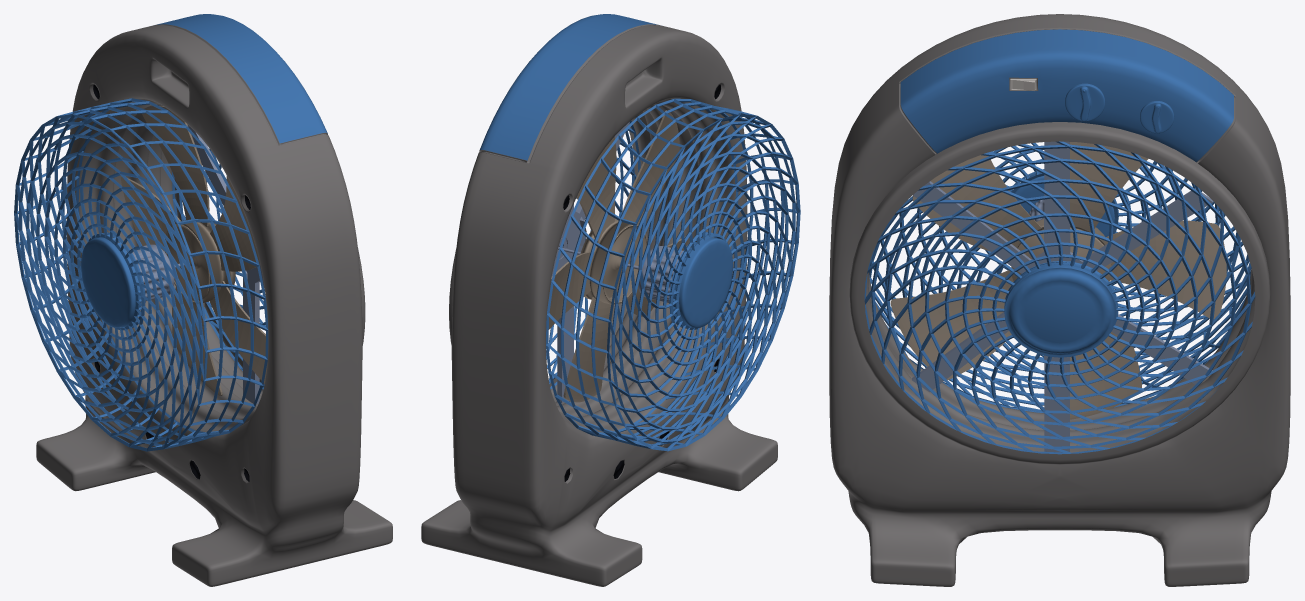
Rendered from ventilador1.glb.
The picture shows the model from 3 angles, left to right: view 1: azimuth 30°, elevation 25°; view 2: azimuth 150°, elevation 25°; view 3: azimuth 270°, elevation 25°; orthographic projection. The views are drawn at different scales.
Visible parts, largest first — view 1: carcaza _Carcaza _0, maya trasera, aspas, carcaza _celeste _0, Circle, guia de las aspas, esqueleto, bordeador, Maya frontal, motor; view 2: carcaza _Carcaza _0, maya trasera, aspas, carcaza _celeste _0, Circle, guia de las aspas, esqueleto, bordeador, Maya frontal, motor; view 3: carcaza _Carcaza _0, Maya frontal, carcaza _celeste _0, aspas, bordeador, esqueleto, maya trasera, tapa frontal, interruptor de velocidad, guia de las aspas, interruptor de tiempo, Circle.
Part boxes in pixels (x1,y1,x2,y2): carcaza _Carcaza _0: (36,24,392,586); maya trasera: (14,98,268,451); aspas: (121,105,267,395); carcaza _celeste _0: (157,14,327,143); Circle: (81,237,141,327); guia de las aspas: (165,220,235,303); esqueleto: (187,124,264,404); bordeador: (161,151,365,400); Maya frontal: (172,148,265,389); motor: (126,244,184,301); carcaza _Carcaza _0: (421,24,777,586); maya trasera: (546,98,800,451); aspas: (546,110,689,402); carcaza _celeste _0: (480,14,658,160); Circle: (673,237,733,327); guia de las aspas: (580,218,647,304); esqueleto: (551,122,629,402); bordeador: (449,111,651,402); Maya frontal: (546,121,640,389); motor: (558,245,683,302); carcaza _Carcaza _0: (829,14,1290,586); Maya frontal: (864,141,1255,454); carcaza _celeste _0: (900,29,1233,161); aspas: (890,142,1226,419); bordeador: (849,122,1270,464); esqueleto: (912,141,1213,452); maya trasera: (869,143,1250,412); tapa frontal: (1004,262,1116,357); interruptor de velocidad: (1065,83,1105,121); guia de las aspas: (1011,219,1111,281); interruptor de tiempo: (1140,101,1174,133); Circle: (1014,172,1114,237).
Bounding box in the file's own units: 0.2948 × 0.6511 × 0.538.
